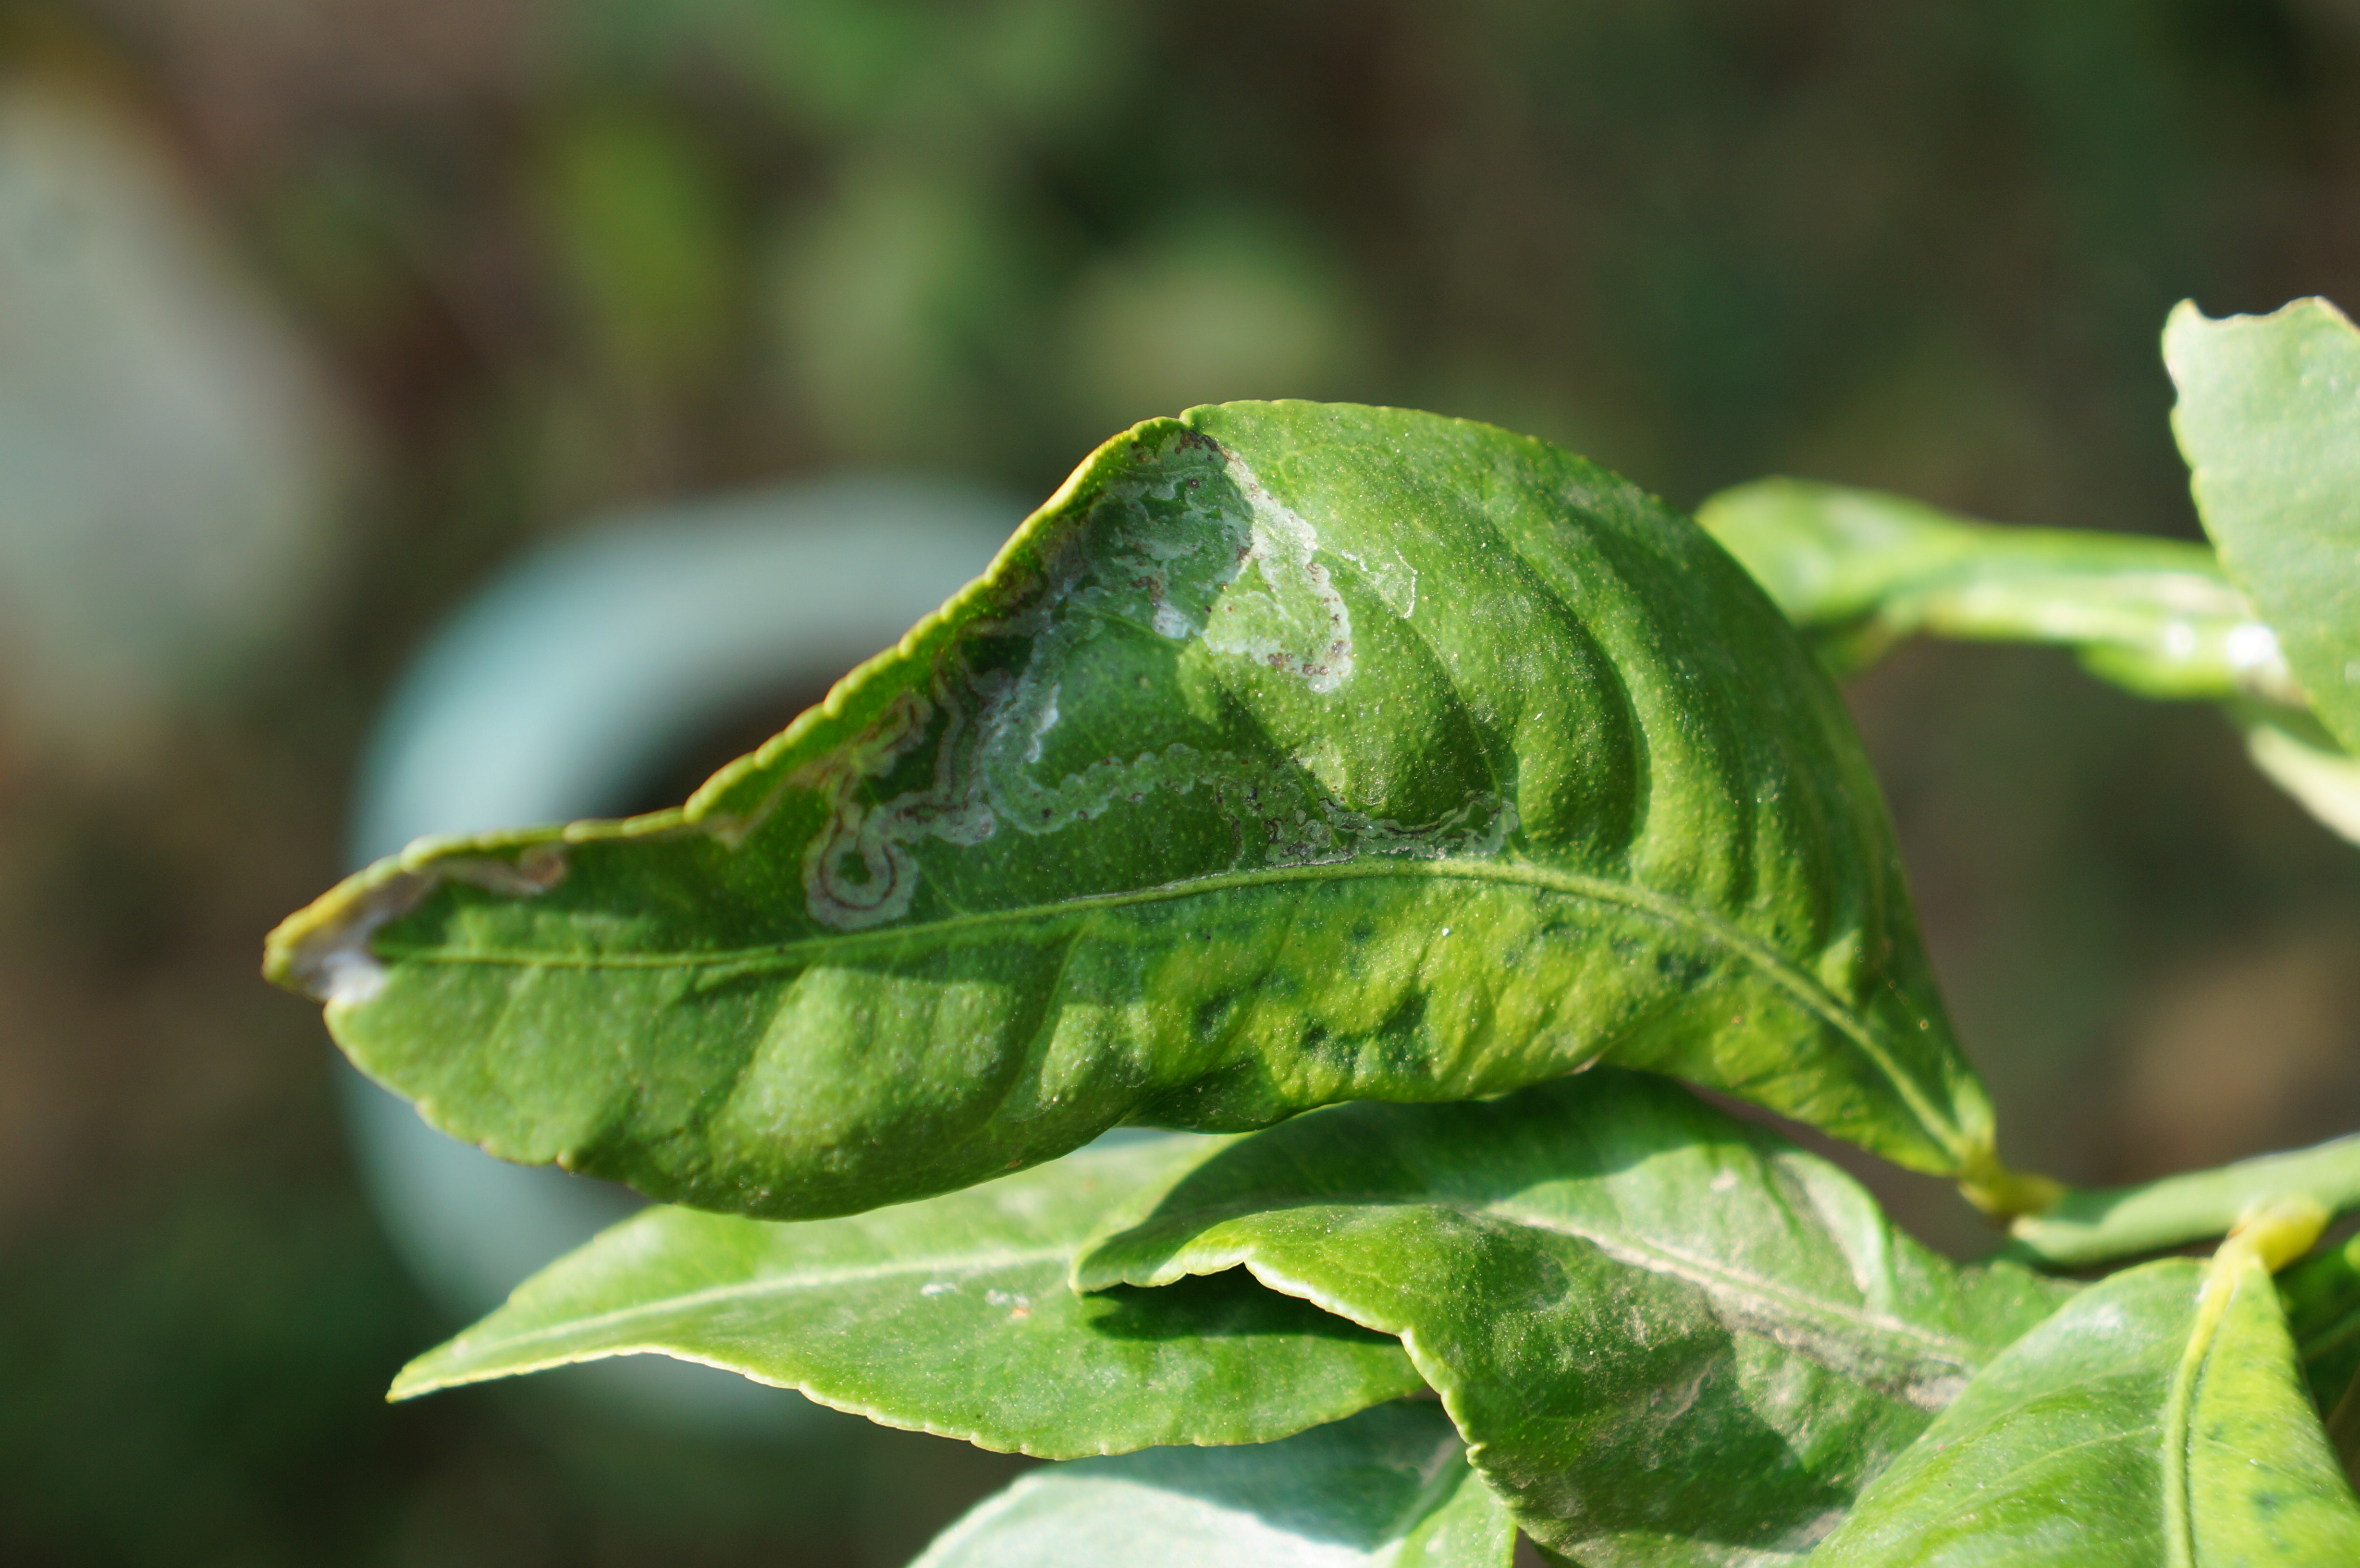damage: (775, 402, 1583, 969), (271, 800, 632, 1057)
